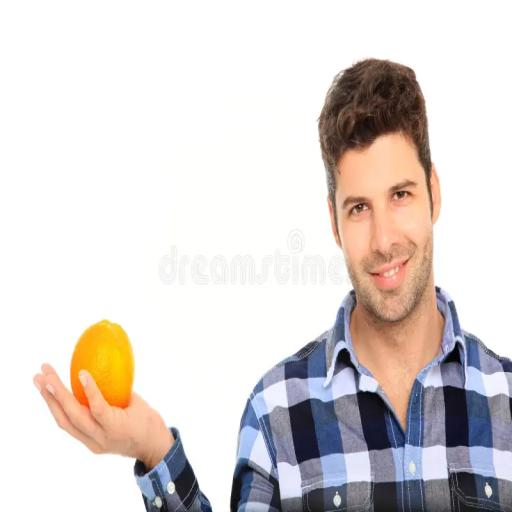orange: (71, 321, 134, 408)
